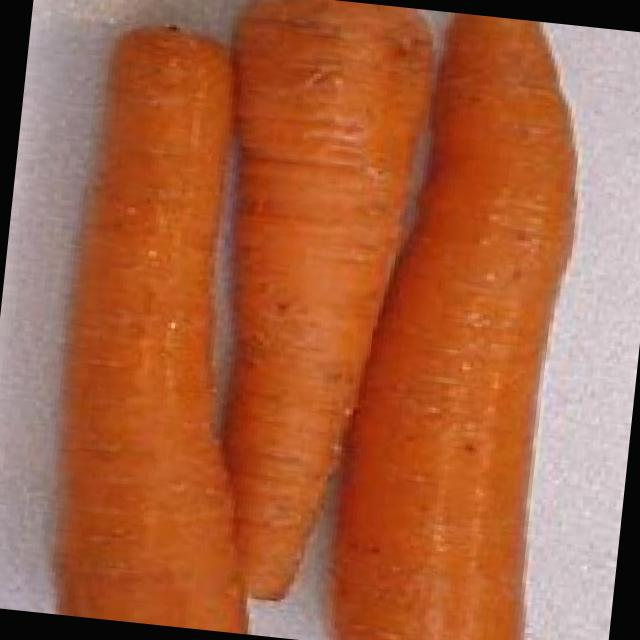carrot: (316, 12, 576, 640), (218, 0, 433, 602), (53, 23, 242, 632)
